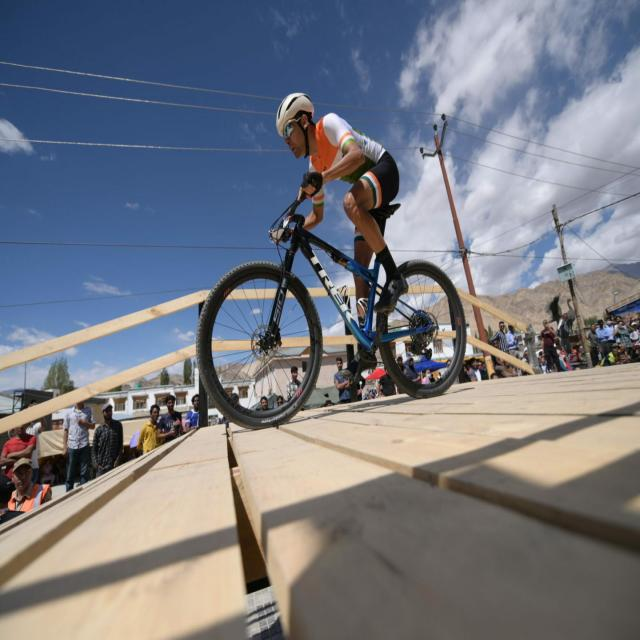bicycle: (196, 94, 466, 428)
